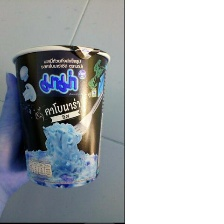paper_cup: (7, 40, 114, 192)
